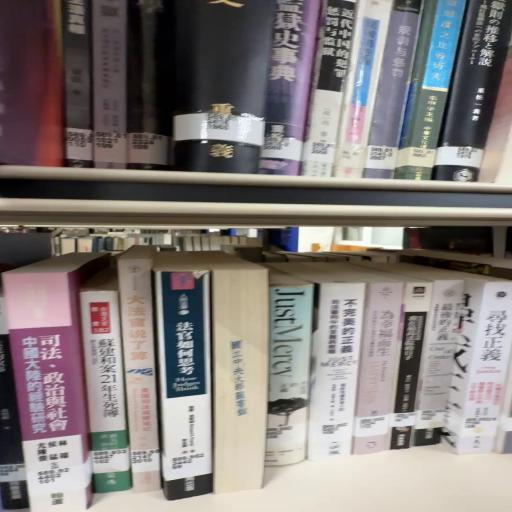backward: (192, 253, 269, 495)
book: (1, 250, 98, 510), (161, 270, 218, 504), (404, 1, 470, 173), (81, 276, 133, 493), (441, 1, 510, 151), (313, 281, 370, 462), (365, 7, 423, 183), (120, 255, 161, 495), (93, 2, 131, 137)
